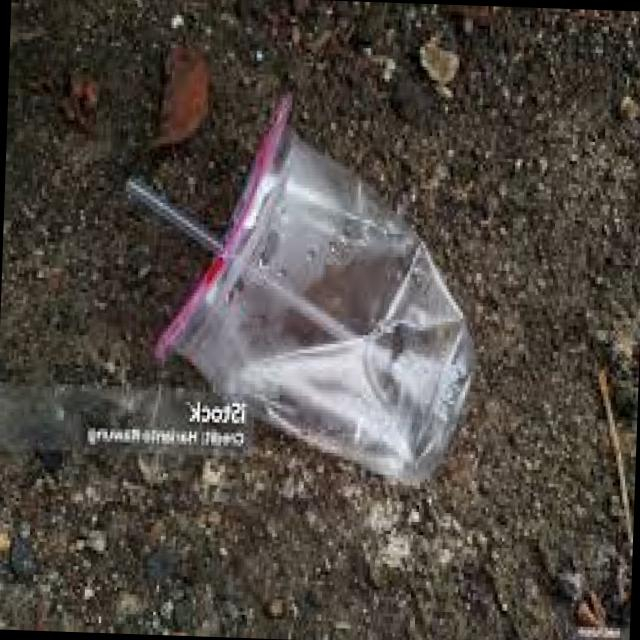GelasPlastik: (130, 83, 490, 487)
